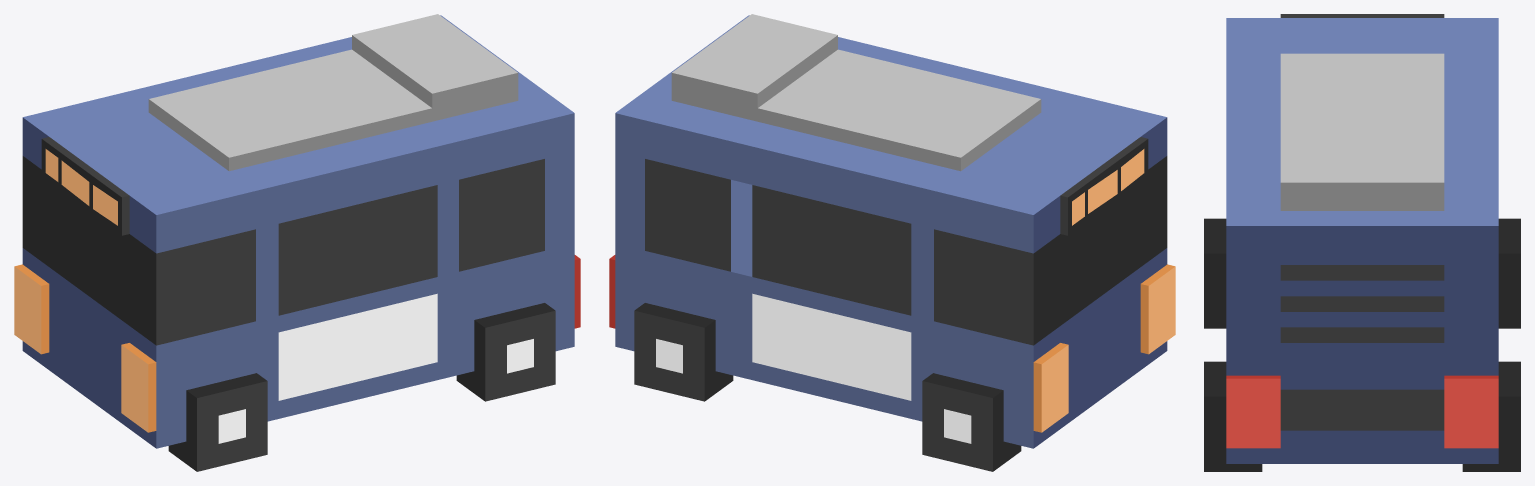
File: road-bus-2.2.glb
3 renders of one model, left to right at view 1: azimuth 30°, elevation 25°; view 2: azimuth 150°, elevation 25°; view 3: azimuth 270°, elevation 25°, orthographic.
Parts seen in each view (by area): view 1: BUS-BODY.001, BUS-WHEELS.001; view 2: BUS-BODY.001, BUS-WHEELS.001; view 3: BUS-BODY.001, BUS-WHEELS.001.
Boxes of the visible parts, bbox=[...] form: BUS-BODY.001: bbox=[14, 14, 580, 448]; BUS-WHEELS.001: bbox=[168, 303, 555, 471]; BUS-BODY.001: bbox=[609, 14, 1175, 448]; BUS-WHEELS.001: bbox=[634, 303, 1021, 471]; BUS-BODY.001: bbox=[1226, 14, 1498, 463]; BUS-WHEELS.001: bbox=[1204, 218, 1520, 471].
Size of the model in its own units: 1.45 by 0.9086 by 0.9007.
1 material, 1 textured.
